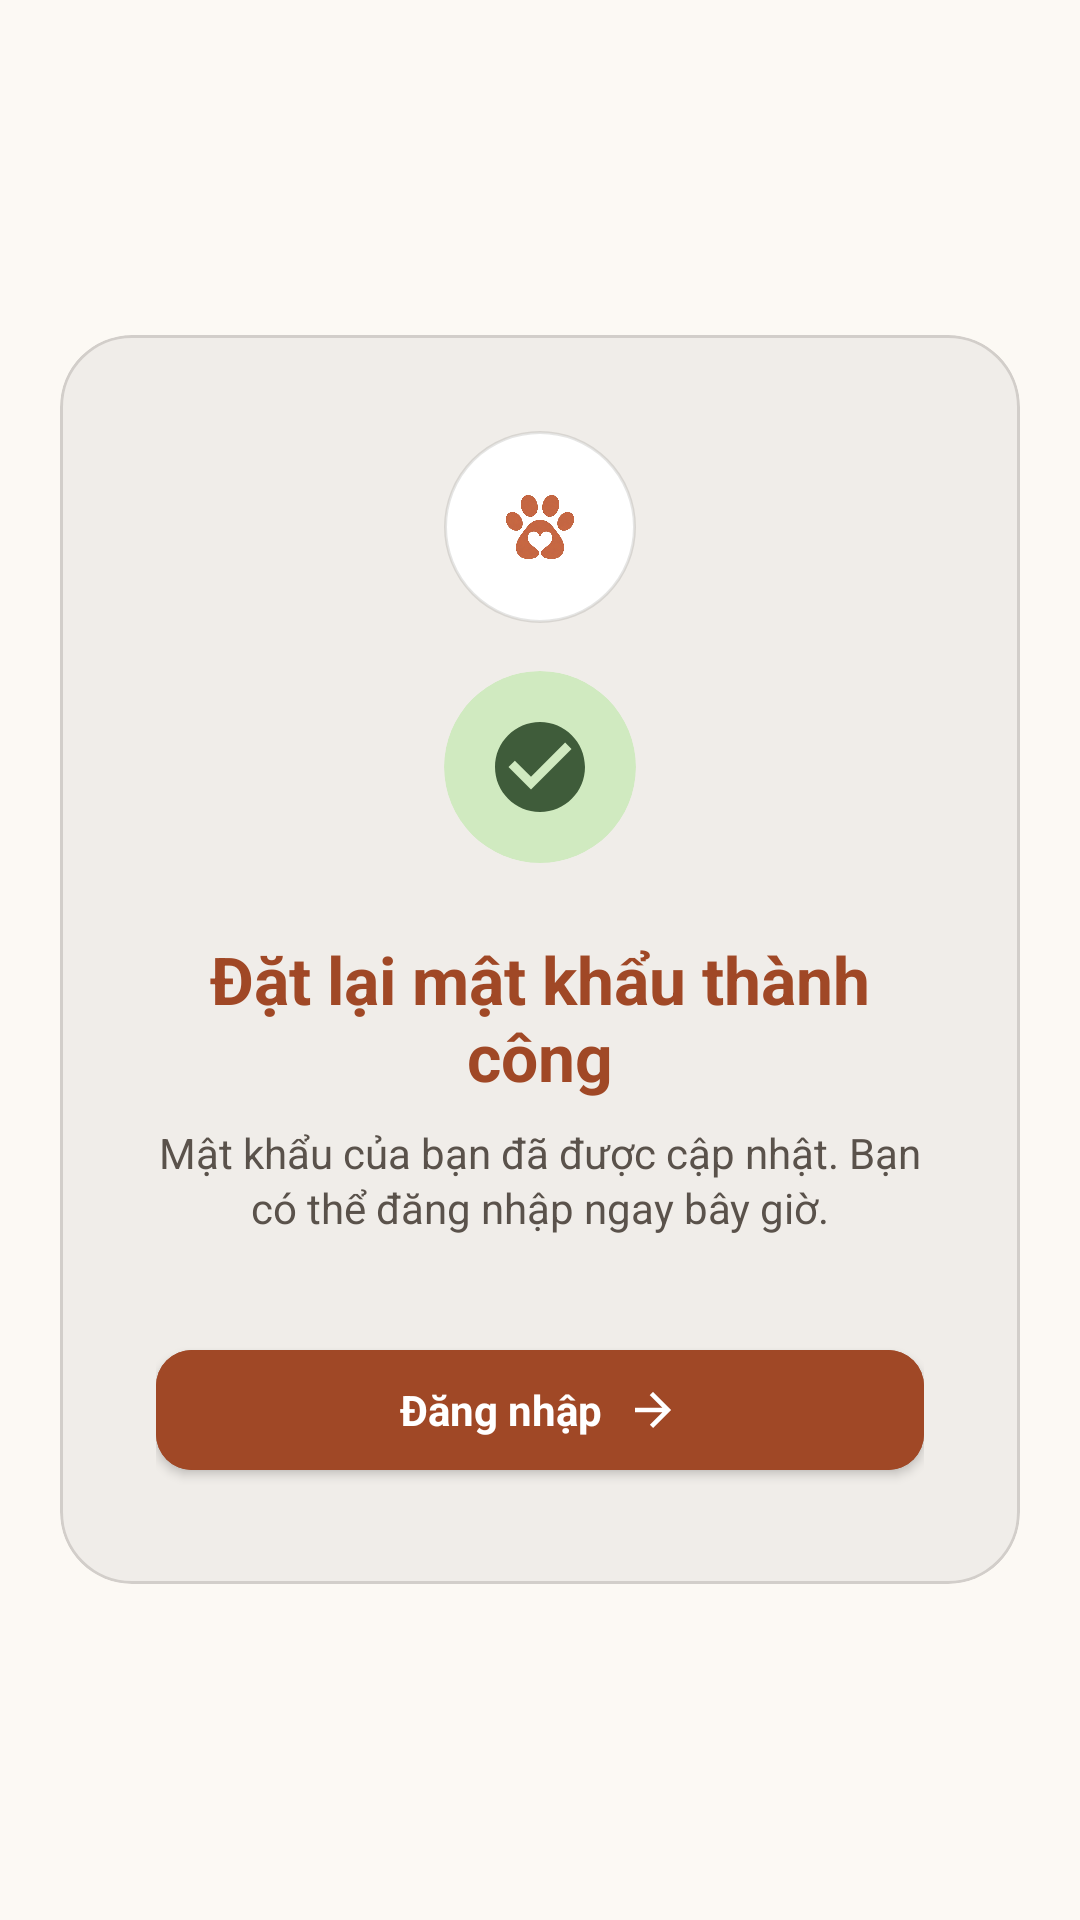

Named icons in this screenshot (1080w x 1920h) and their bounding boxes, (x1, y1, x2, y2):
PetStoreApp Paw Icon: (506, 495, 574, 559)
